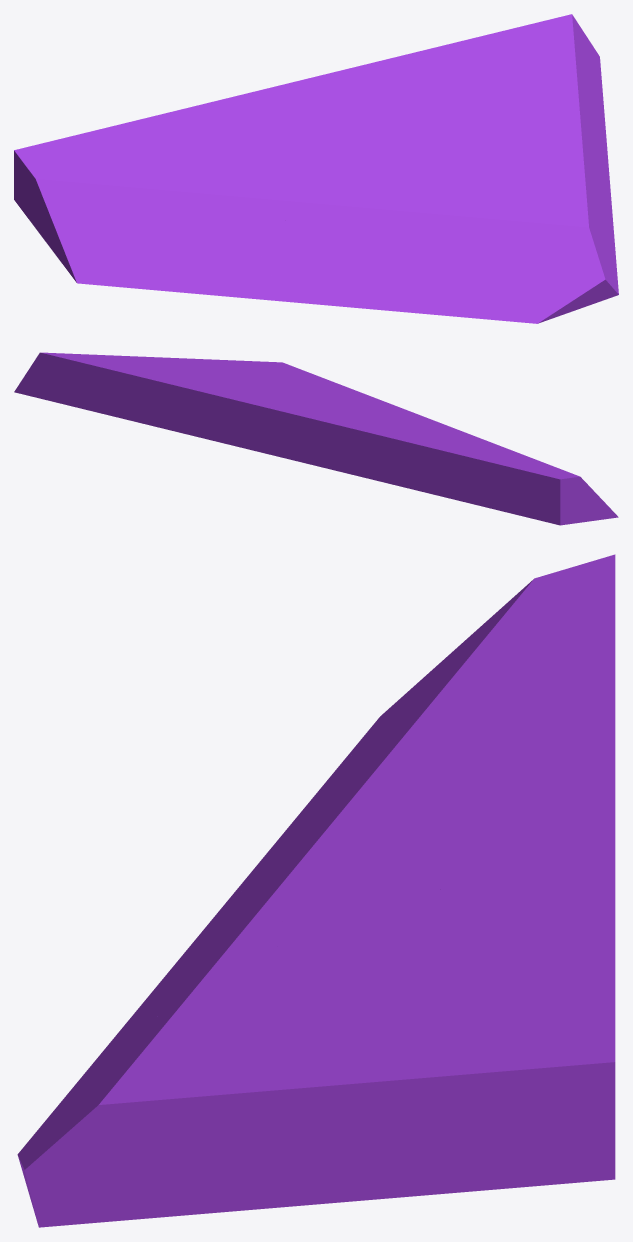
File: Window_141_0_chunks.fbx
3 renders of one model, top to bottom at view 1: azimuth 30°, elevation 25°; view 2: azimuth 150°, elevation 25°; view 3: azimuth 270°, elevation 25°, orthographic. The views are drawn at different scales.
Visible parts, largest first — view 1: Window_141_0_9, Window_141_0_12, Window_141_0_15, Window_141_0_0, Window_141_0_1, Window_141_0_11, Window_141_0_10, Window_141_0_14, Window_141_0_2, Window_141_0_5; view 2: Window_141_0_9, Window_141_0_15, Window_141_0_12, Window_141_0_11, Window_141_0_10, Window_141_0_14, Window_141_0_8, Window_141_0_0, Window_141_0_2; view 3: Window_141_0_9, Window_141_0_15, Window_141_0_10, Window_141_0_12, Window_141_0_11, Window_141_0_14, Window_141_0_0, Window_141_0_2, Window_141_0_1, Window_141_0_5.
Boxes of the visible parts, x1,y1,x2,y2 form: Window_141_0_9: (379, 14, 612, 209); Window_141_0_12: (14, 118, 211, 285); Window_141_0_15: (144, 65, 376, 174); Window_141_0_0: (255, 174, 416, 309); Window_141_0_1: (374, 250, 593, 323); Window_141_0_11: (361, 61, 502, 211); Window_141_0_10: (480, 175, 618, 306); Window_141_0_14: (181, 168, 377, 263); Window_141_0_2: (396, 186, 542, 252); Window_141_0_5: (102, 243, 285, 301); Window_141_0_9: (14, 352, 274, 436); Window_141_0_15: (236, 400, 461, 490); Window_141_0_12: (418, 439, 618, 525); Window_141_0_11: (219, 377, 354, 450); Window_141_0_10: (226, 360, 333, 384); Window_141_0_14: (349, 403, 490, 442); Window_141_0_8: (198, 426, 249, 449); Window_141_0_0: (353, 400, 431, 419); Window_141_0_2: (331, 381, 383, 401); Window_141_0_9: (219, 887, 615, 1210); Window_141_0_15: (362, 673, 615, 897); Window_141_0_10: (23, 1000, 273, 1227); Window_141_0_12: (333, 554, 615, 786); Window_141_0_11: (198, 870, 615, 1016); Window_141_0_14: (307, 735, 442, 899); Window_141_0_0: (147, 831, 346, 998); Window_141_0_2: (103, 919, 307, 1086); Window_141_0_1: (17, 981, 184, 1194); Window_141_0_5: (217, 741, 359, 913).
Size of the model in its own units: 1243 by 294 by 589.
